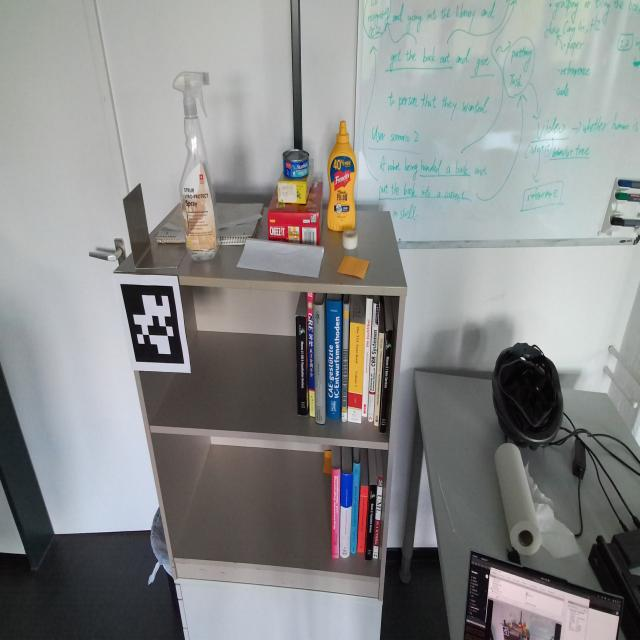Book Spine: (326, 300, 342, 419), (347, 322, 365, 424), (313, 303, 325, 424), (368, 302, 380, 422), (380, 330, 393, 433), (362, 298, 373, 417), (340, 472, 353, 558), (296, 316, 307, 415), (374, 332, 385, 426), (307, 292, 315, 417), (350, 463, 361, 553), (365, 484, 377, 561), (342, 303, 349, 422), (373, 476, 383, 559), (332, 468, 341, 558), (357, 485, 368, 552)
